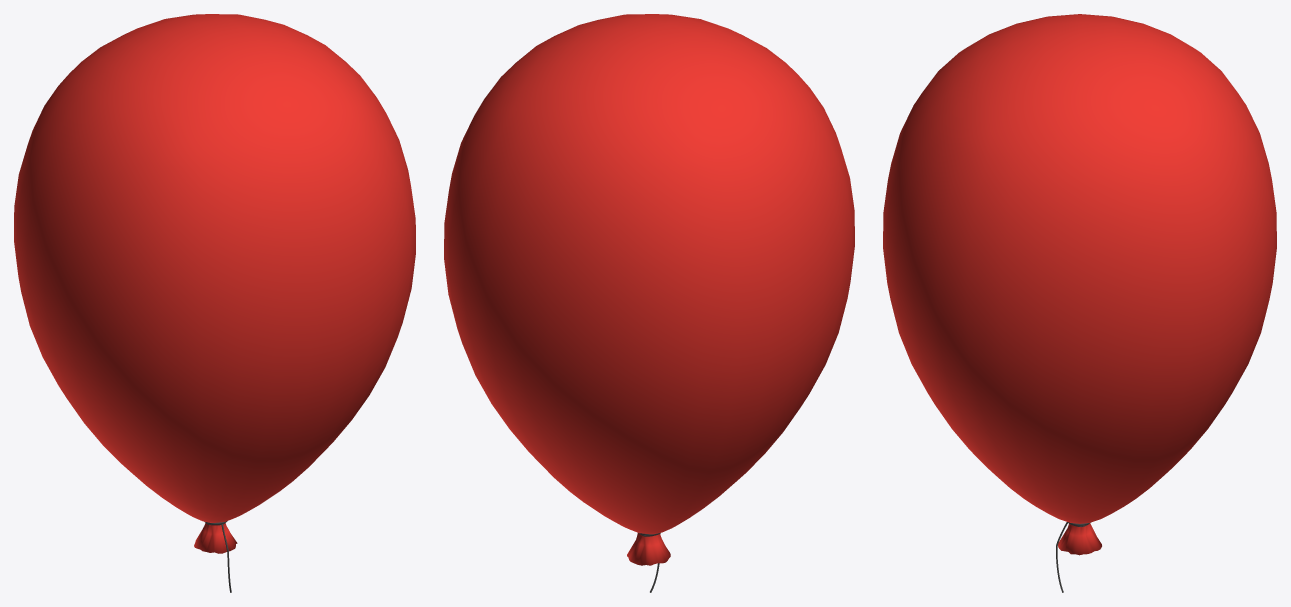
Rendered from Balloon.fbx.
The picture shows the model from 3 angles, left to right: view 1: azimuth 30°, elevation 25°; view 2: azimuth 150°, elevation 25°; view 3: azimuth 270°, elevation 25°; orthographic projection. The views are drawn at different scales.
Parts seen in each view (by area): view 1: Cube.003, Cylinder.006; view 2: Cube.003, Cylinder.006; view 3: Cube.003, Cylinder.006.
Boxes of the visible parts, x1,y1,x2,y2 form: Cube.003: [14, 14, 415, 522]; Cylinder.006: [194, 523, 237, 553]; Cube.003: [444, 14, 854, 534]; Cylinder.006: [627, 533, 670, 565]; Cube.003: [883, 14, 1276, 523]; Cylinder.006: [1058, 523, 1101, 555].
Bounding box in the file's own units: 461 × 716 × 461.
